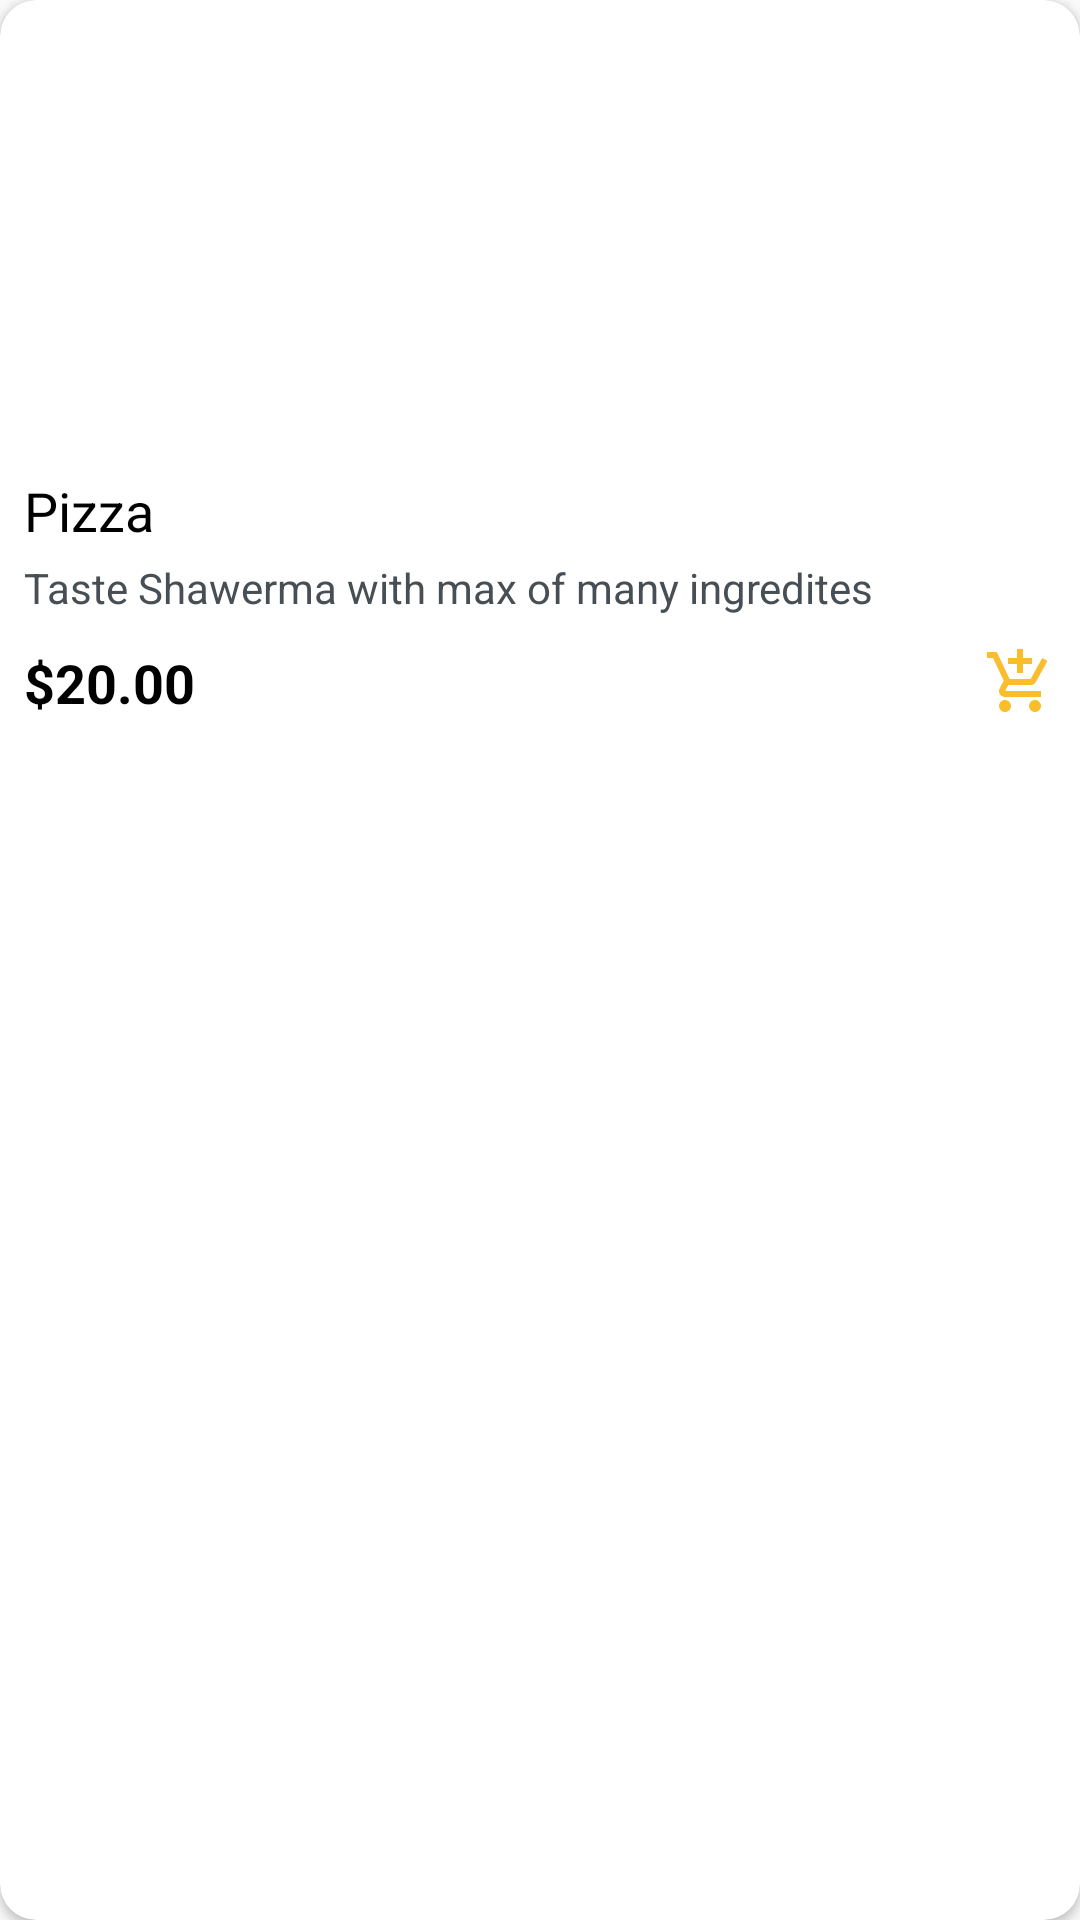

Icons on this 1080px x 1920px Android screen, each with its box as (x1, y1, x2, y2):
add cart: (987, 649, 1048, 712)
